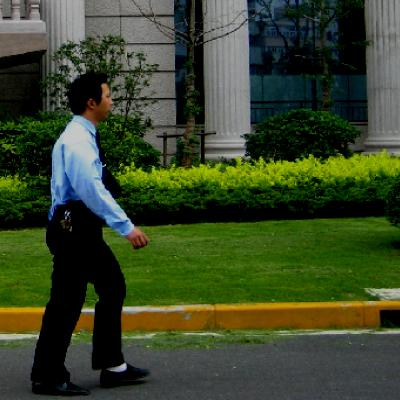ped: (34, 73, 152, 394)
